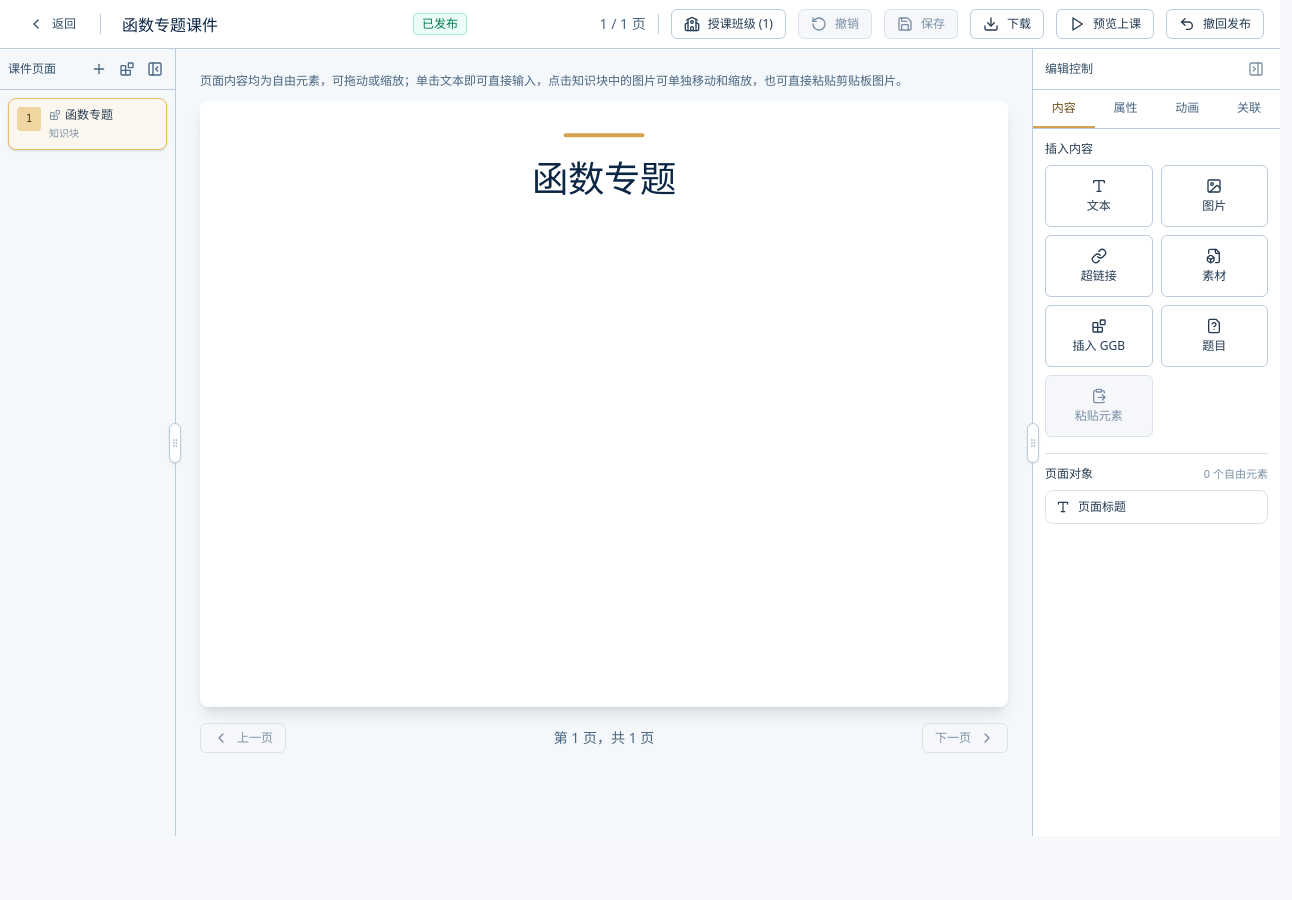
Test case: LessonEditorPage preview query › replaces publish with unpublish for published courseware and allows publishing again after withdrawal
This screenshot has width=1292, height=900.
Expected: the button "发布到上课" is not shown
Click the button "撤回发布".
click(1215, 24)  # box [1166,9,1264,39]
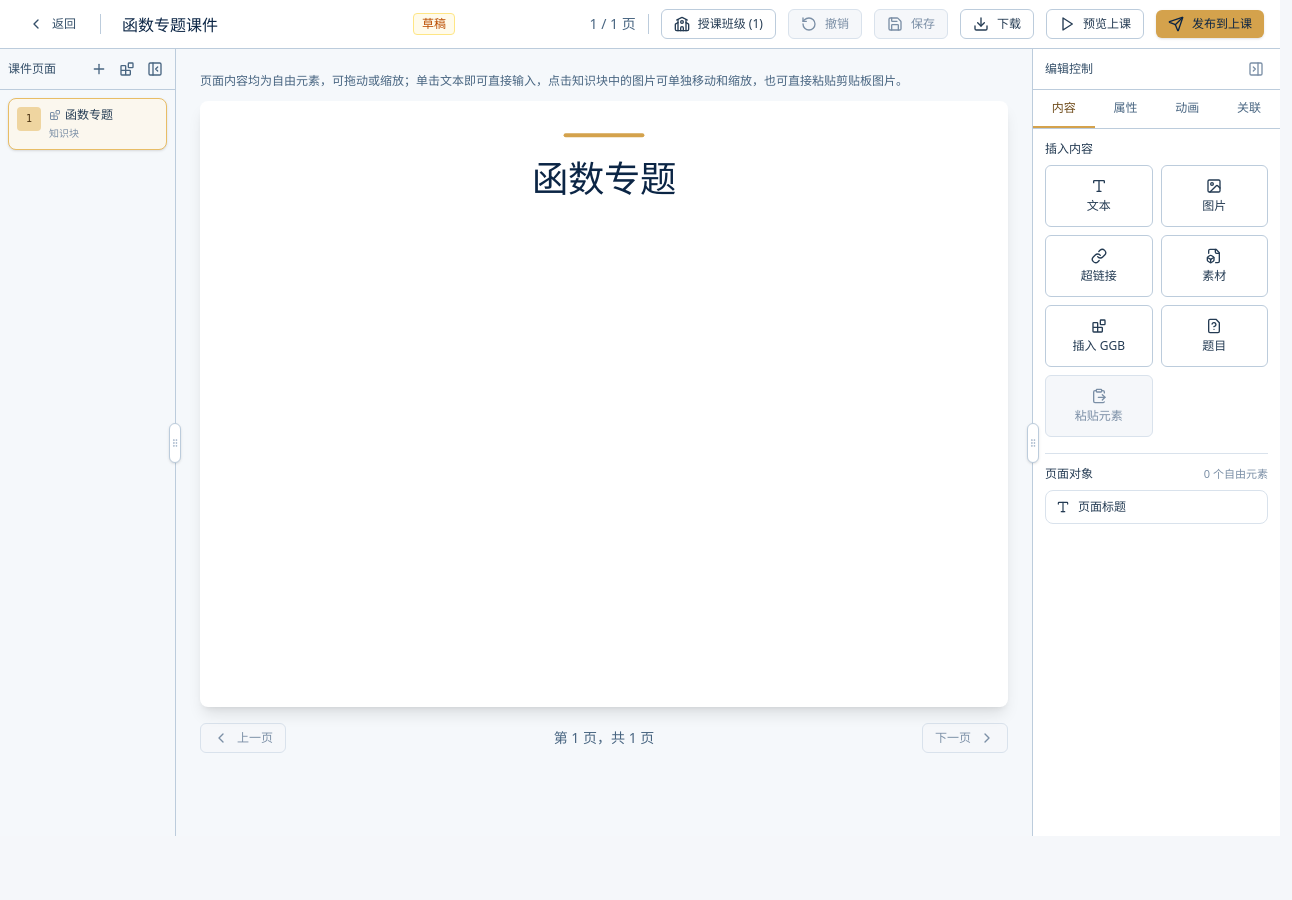
Expected: the button "发布到上课" is shown
Click the button "发布到上课".
click(1210, 24)  # box [1156,10,1264,38]
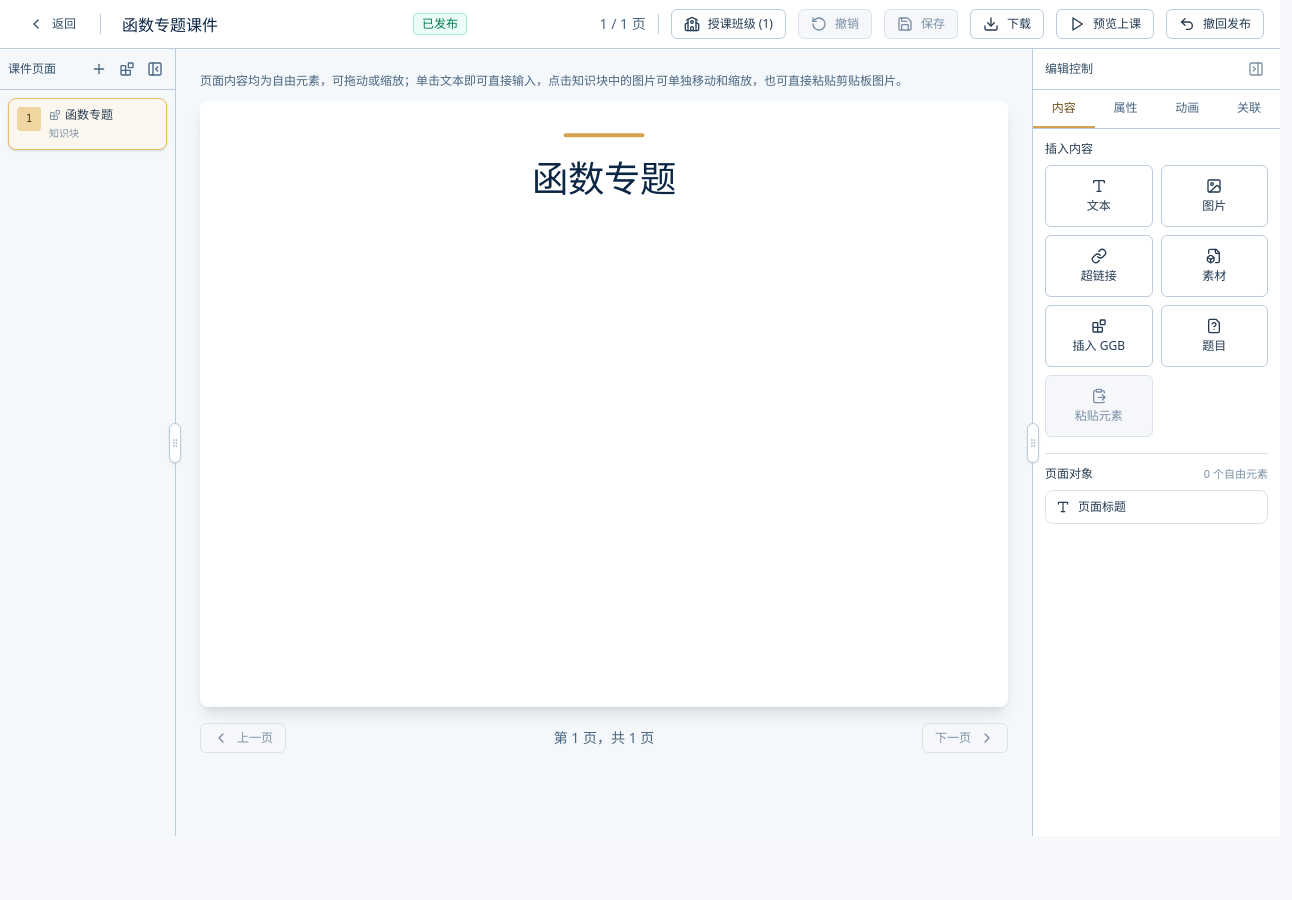
Expected: the button "撤回发布" is shown, [1166,9,1264,39]
